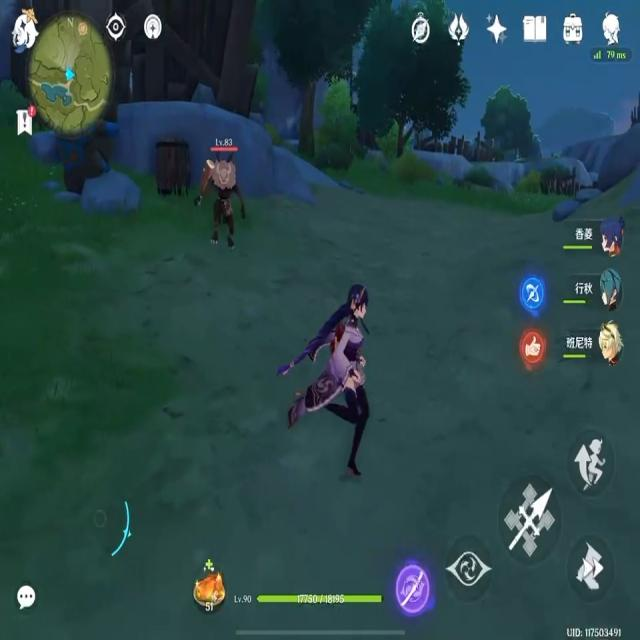genshin-hilichurls: (201, 159, 242, 245)
